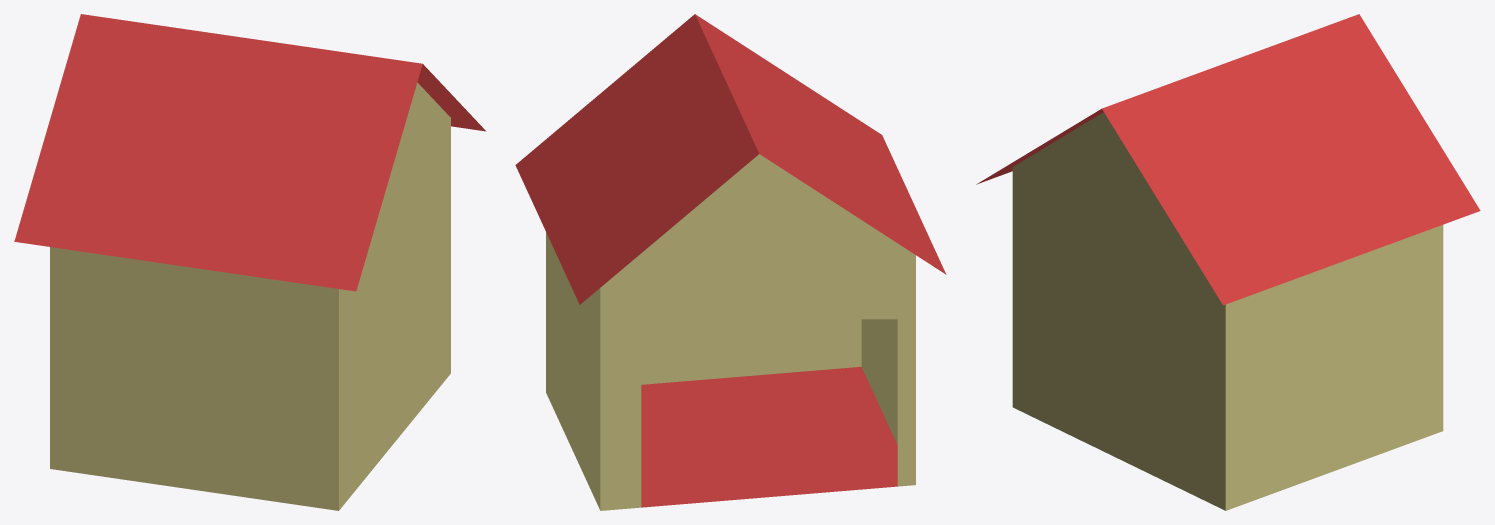
3 views of the same model, side by side, from view 1: azimuth 30°, elevation 25°; view 2: azimuth 150°, elevation 25°; view 3: azimuth 270°, elevation 25° (orthographic). The views are drawn at different scales.
Size of the model in its own units: 14.44 by 14.33 by 11.24.
